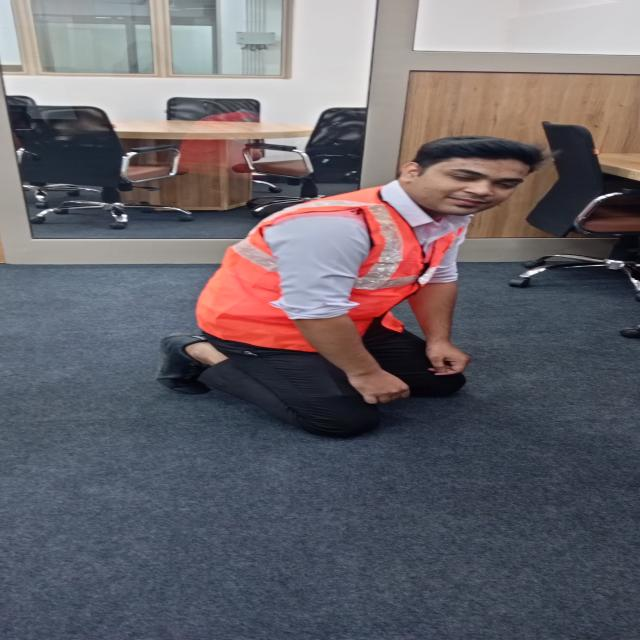unsafe: (182, 132, 550, 442)
